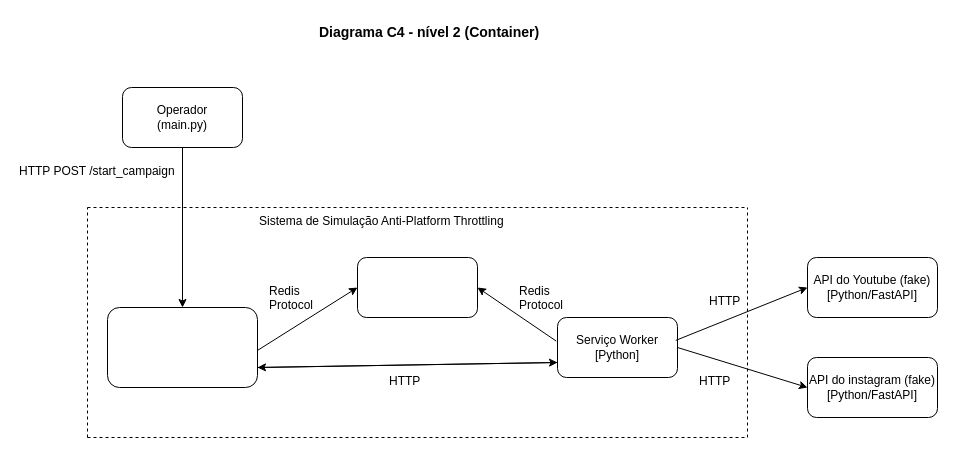
The diagram is 955 pixels wide and 456 high, and some of its shapes have lost their labels. Here are the shapes that lost their labels. From the top down, the centre of each, then its label:
At point (417, 287): "Fila [Redis]".
At point (182, 347): "Serviço de Agendamento (Scheduler) [Python/FastAPI]".
